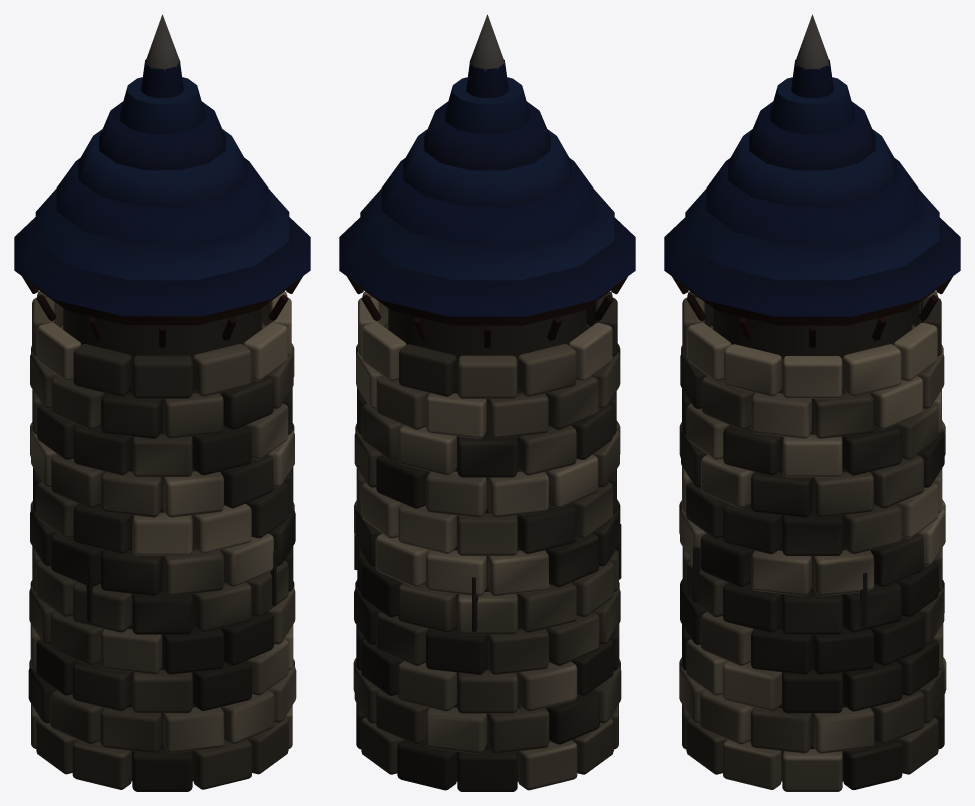
File: Torre2.fbx
3 renders of one model, left to right at view 1: azimuth 30°, elevation 25°; view 2: azimuth 150°, elevation 25°; view 3: azimuth 270°, elevation 25°, orthographic.
Parts seen in each view (by area): view 1: Torre2; view 2: Torre2; view 3: Torre2.
Part boxes in pixels (x1,y1,x2,y2): Torre2: (14,14,310,791); Torre2: (339,14,635,791); Torre2: (664,14,960,791).
Size of the model in its own units: 4.93 by 13.3 by 4.93.
